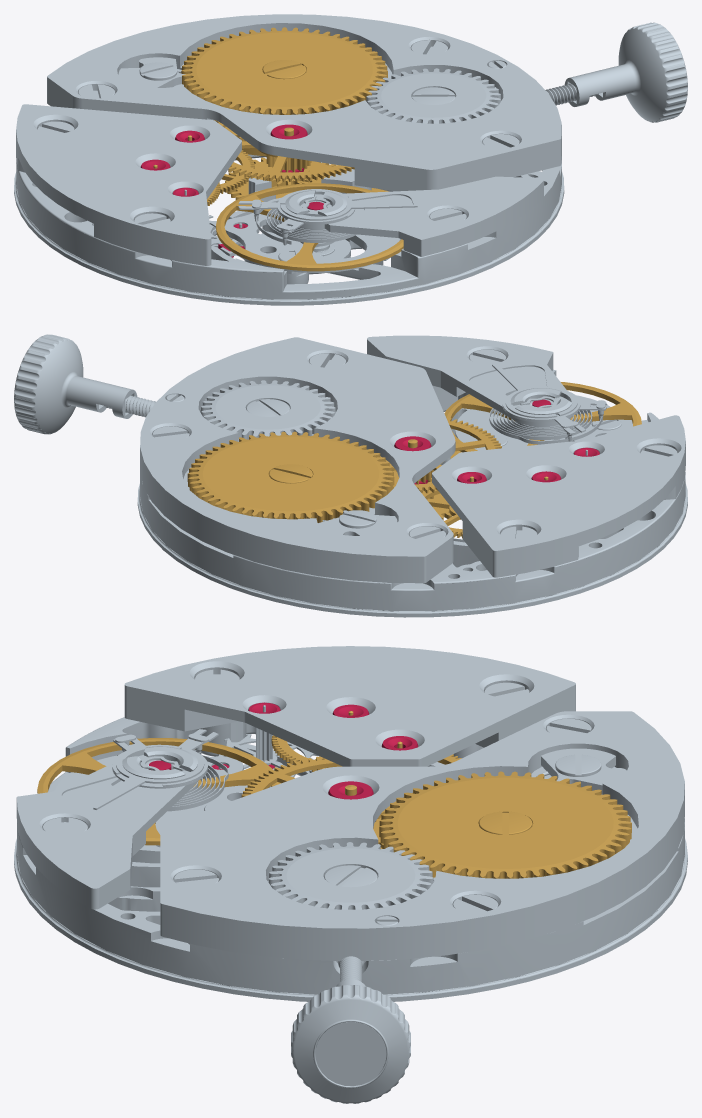
The model's file is unitas6497_1.glb.
3 views of the same model, one above another, from view 1: azimuth 30°, elevation 25°; view 2: azimuth 150°, elevation 25°; view 3: azimuth 270°, elevation 25° (orthographic). The views are drawn at different scales.
Parts seen in each view (by area): view 1: 105_BarrelBridge, 110_TrainWheelBridge, 6497_SkeltonFront, 415_RatchetWheel, 121_BalancingBridge, WindingKnob, 420_CrownWheel, 721_BalanceWheel, 125_PalletBridge, 201_CenterWheel, 721_HairSpring, Incabloc1_Base (+9 smaller); view 2: 105_BarrelBridge, 110_TrainWheelBridge, 6497_SkeltonFront, 415_RatchetWheel, 121_BalancingBridge, WindingKnob, 420_CrownWheel, 721_BalanceWheel, 721_HairSpring, 125_PalletBridge, 201_CenterWheel, Incabloc1_Base (+11 smaller); view 3: 105_BarrelBridge, 110_TrainWheelBridge, 6497_SkeltonFront, 415_RatchetWheel, 121_BalancingBridge, WindingKnob, 420_CrownWheel, 721_BalanceWheel, 425_Click, 125_PalletBridge, Incabloc1_Base, 303_RegulatorPiece1 (+7 smaller).
Part boxes in pixels (<box>): 105_BarrelBridge: <box>47,14,561,191</box>; 110_TrainWheelBridge: <box>16,104,241,265</box>; 6497_SkeltonFront: <box>14,154,564,305</box>; 415_RatchetWheel: <box>181,27,387,114</box>; 121_BalancingBridge: <box>285,176,543,256</box>; WindingKnob: <box>564,22,687,122</box>; 420_CrownWheel: <box>366,68,500,123</box>; 721_BalanceWheel: <box>216,183,403,271</box>; 125_PalletBridge: <box>224,197,401,274</box>; 201_CenterWheel: <box>214,120,354,181</box>; 721_HairSpring: <box>256,200,356,244</box>; Incabloc1_Base: <box>285,190,346,216</box>; 105_BarrelBridge: <box>140,337,455,583</box>; 110_TrainWheelBridge: <box>432,415,685,577</box>; 6497_SkeltonFront: <box>137,369,687,617</box>; 415_RatchetWheel: <box>187,431,394,522</box>; 121_BalancingBridge: <box>367,335,572,426</box>; WindingKnob: <box>14,334,137,434</box>; 420_CrownWheel: <box>201,380,335,439</box>; 721_BalanceWheel: <box>444,382,641,452</box>; 721_HairSpring: <box>489,408,601,444</box>; 125_PalletBridge: <box>455,395,627,450</box>; 201_CenterWheel: <box>374,418,501,493</box>; Incabloc1_Base: <box>510,388,572,414</box>; 105_BarrelBridge: <box>160,711,684,961</box>; 110_TrainWheelBridge: <box>124,646,575,766</box>; 6497_SkeltonFront: <box>14,717,687,1001</box>; 415_RatchetWheel: <box>379,771,631,878</box>; 121_BalancingBridge: <box>16,755,198,909</box>; WindingKnob: <box>291,979,410,1103</box>; 420_CrownWheel: <box>268,842,433,909</box>; 721_BalanceWheel: <box>37,738,280,845</box>; 425_Click: <box>541,748,626,794</box>; 125_PalletBridge: <box>55,755,247,847</box>; Incabloc1_Base: <box>122,746,197,779</box>; 303_RegulatorPiece1: <box>93,744,204,809</box>.
Size of the model in its own units: 0.0476 by 0.00693 by 0.0366.
